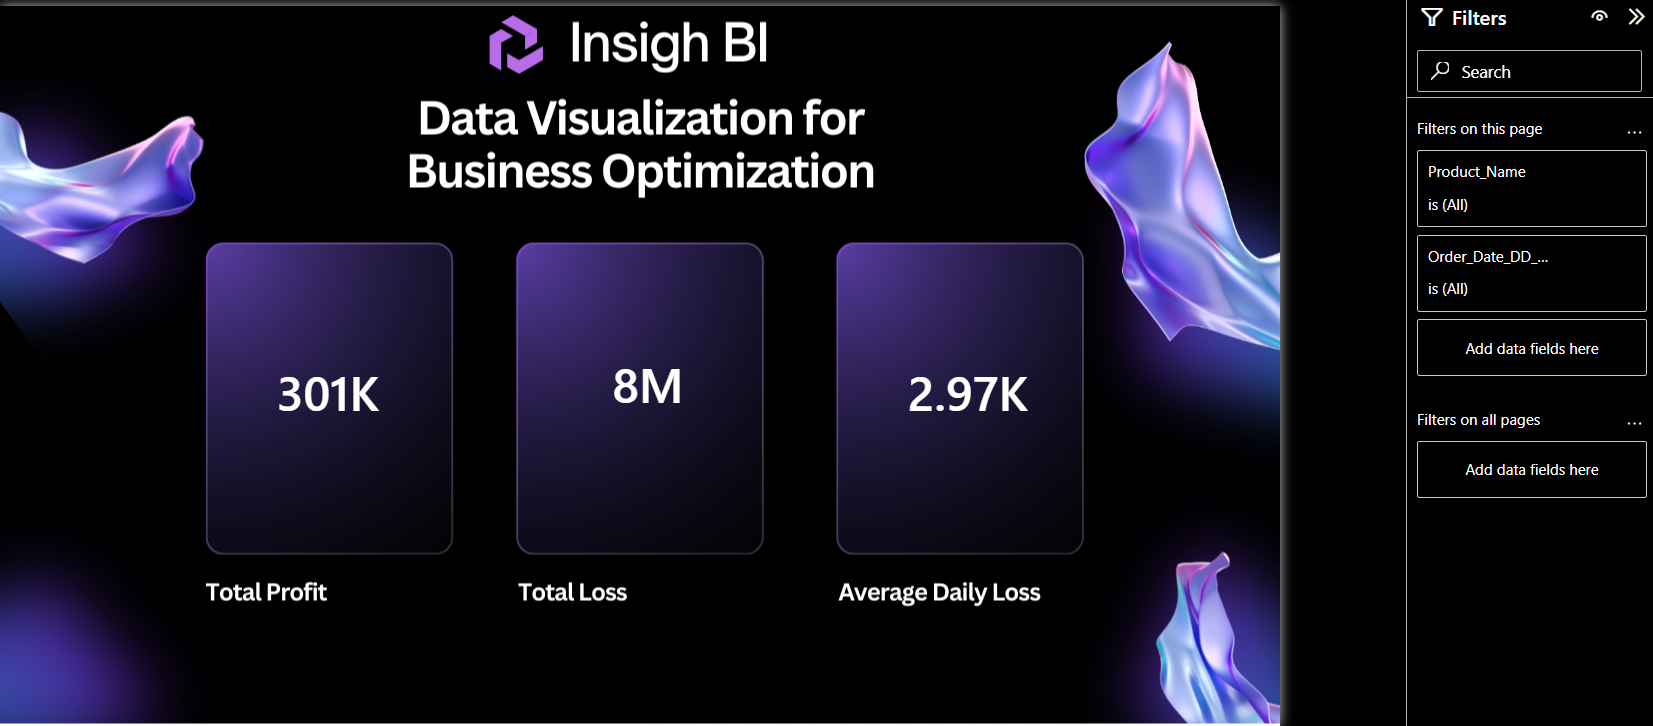

The dashboard page shown, as its layout file describes it:
{"tool":"powerbi","page":{"name":"Page 2","canvas":[1280,720],"ordinal":1},"visuals":[{"type":"cardVisual","fields":{"Data":["Measures Table.Total Profit"]},"box":[224,256,208,256],"z":0},{"type":"cardVisual","fields":{"Data":["Measures Table.Total Loss"]},"box":[544,256,208,240],"z":1},{"type":"cardVisual","fields":{"Data":["Measures Table.Average Loss Per Day"]},"box":[864,256,208,256],"z":2}]}

Visuals, with their boxes on the page's 1280x720 design canvas (x1, y1, x2, y2). These are canvas units, not pixel positions in the 1653x726 screenshot, which may show the page scaled, cropped or inside an application window:
cardVisual - Measures Table.Total Profit: 224,256,432,512
cardVisual - Measures Table.Total Loss: 544,256,752,496
cardVisual - Measures Table.Average Loss Per Day: 864,256,1072,512
